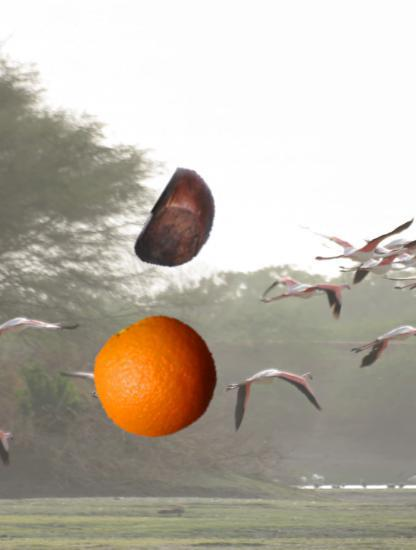Chestnut: (127, 170, 235, 278)
Orange: (94, 315, 219, 440)
